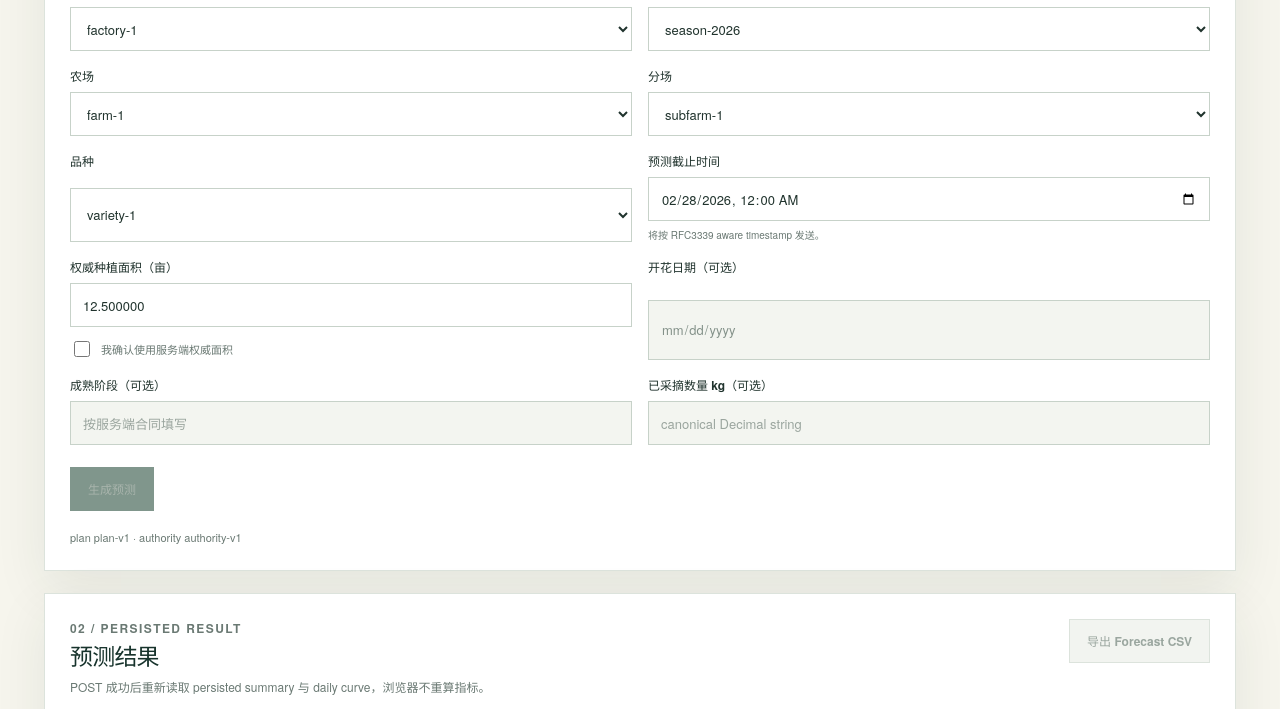
Test case: ForecastPage › loads server authority and requires area confirmation before create
(page scrolled)
Expected: the dropdown labelled "加工厂" is shown, [70,7,632,51]
Expected: the dropdown labelled "产季" is shown, [648,7,1210,51]
Click the checkbox labelled "我确认使用服务端权威面积" at point(82, 349), box [74,341,90,357]
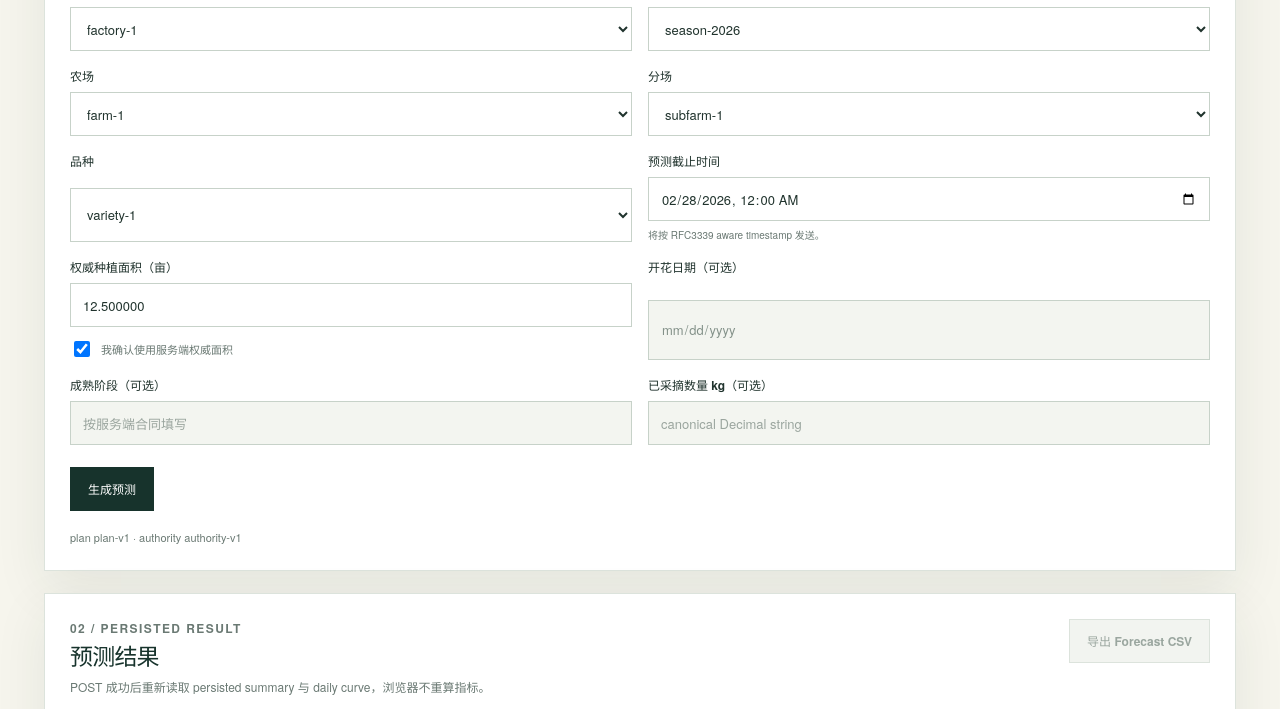
Now the button "生成预测" is enabled, box [70,467,154,511]
